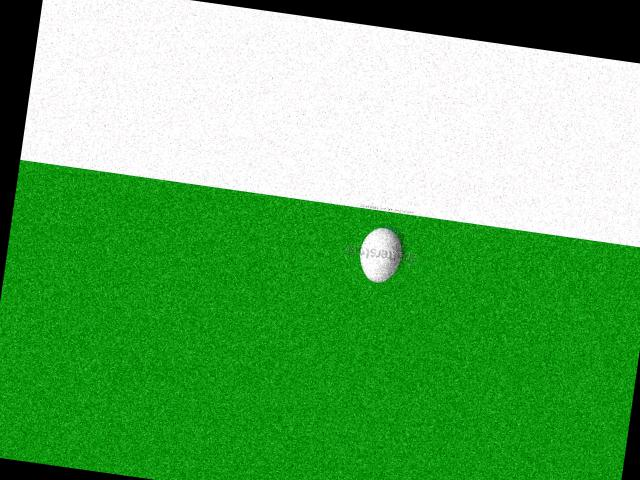egg: (356, 225, 404, 284)
